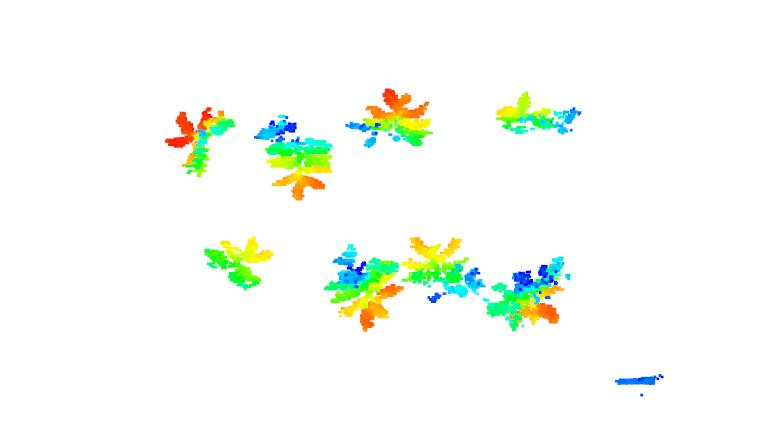chickpea: (321, 244, 406, 335), (251, 110, 335, 202), (484, 253, 571, 332), (343, 87, 436, 151), (400, 235, 487, 303), (161, 105, 236, 179), (493, 91, 586, 140), (201, 233, 279, 291)
